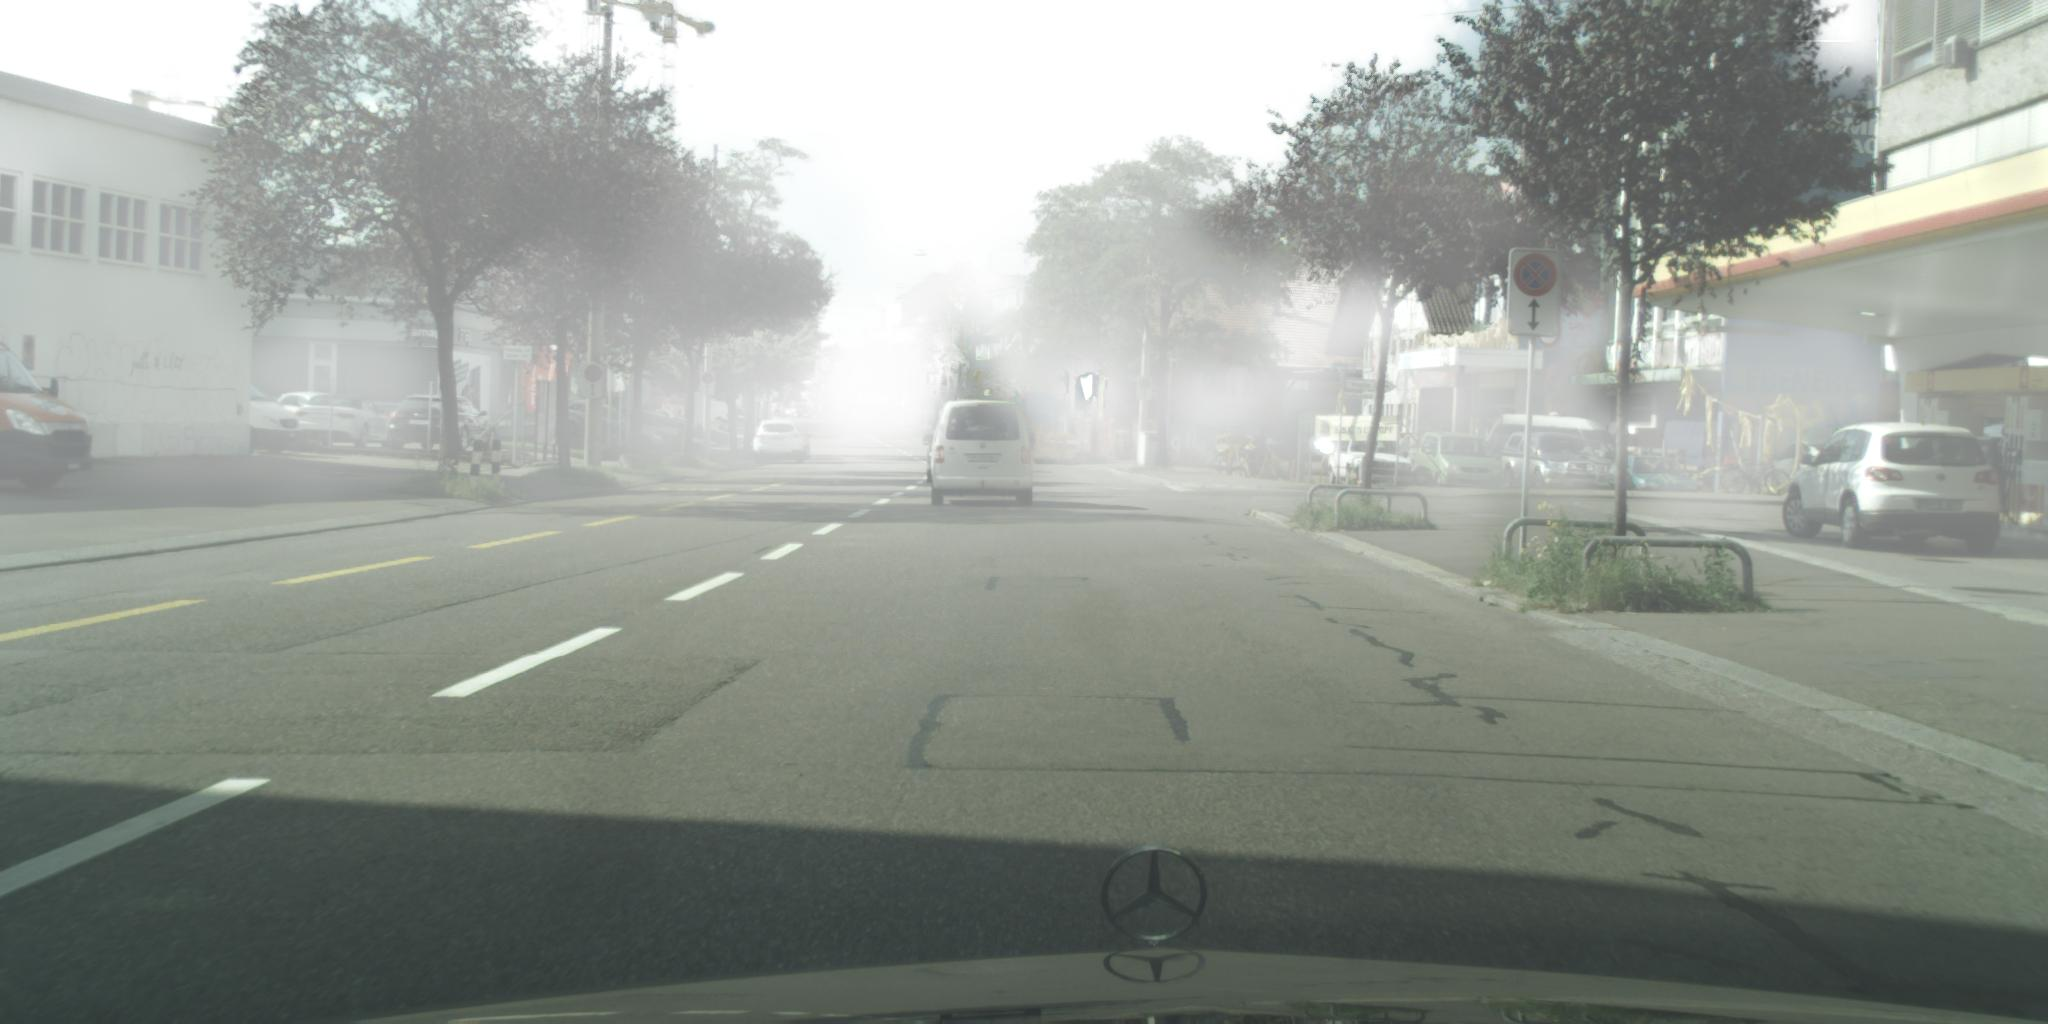bicycle: (1719, 452, 1789, 498)
car: (1783, 423, 2004, 562), (1, 340, 95, 502), (922, 401, 1034, 508), (1502, 432, 1620, 492), (381, 396, 500, 455), (1490, 411, 1613, 464), (294, 396, 394, 451), (1412, 435, 1510, 491), (1328, 439, 1418, 490), (1592, 456, 1706, 495), (249, 384, 307, 452), (560, 394, 633, 441), (1770, 445, 1825, 491), (754, 419, 806, 466), (637, 408, 694, 451), (280, 393, 319, 419), (792, 421, 814, 461), (886, 410, 906, 428), (793, 404, 811, 418), (782, 408, 795, 419)
